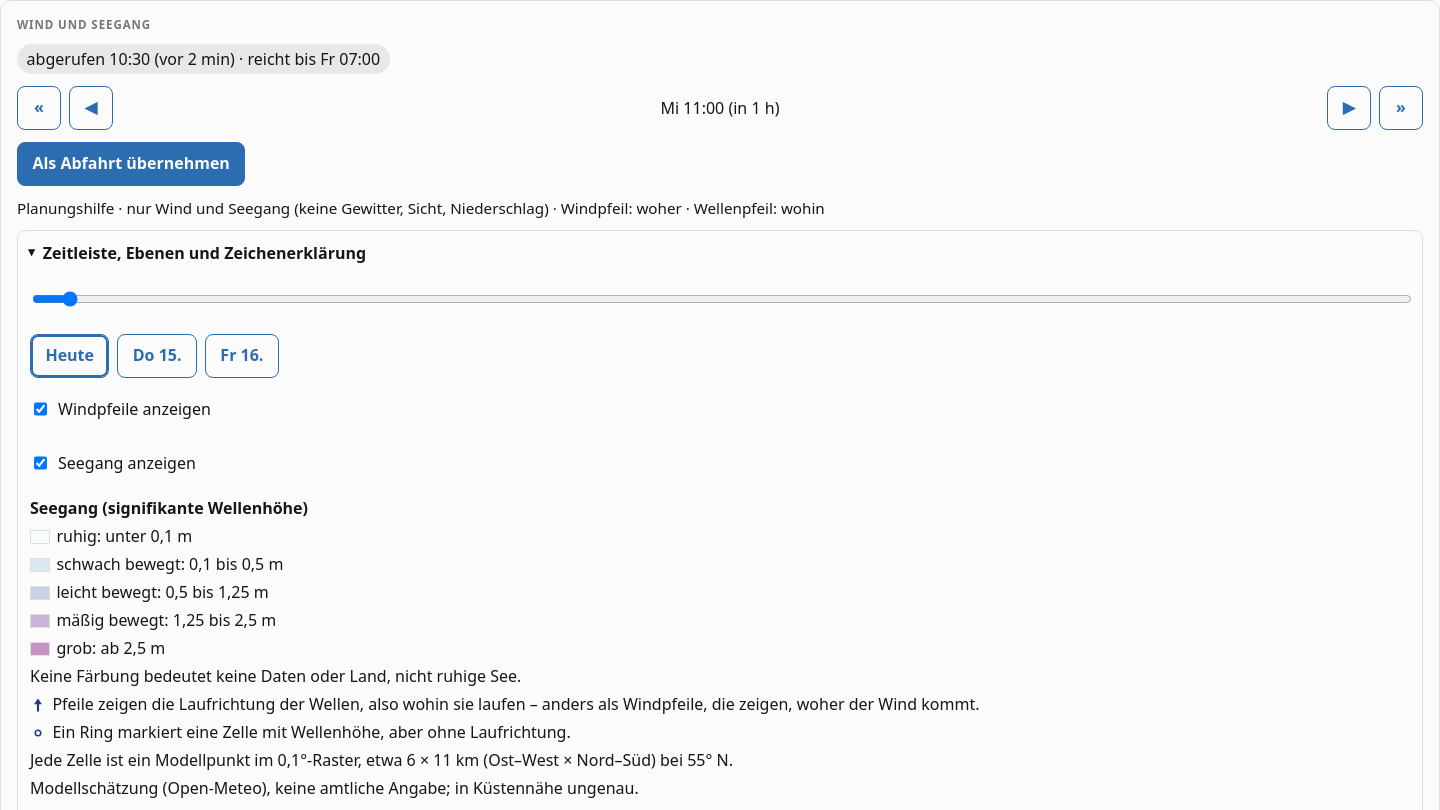
Test: ConditionsPanel hour control and handoff (#1854 §4, §11) › a 13 h clock advance turns stale, drops past hours and announces only the transition
Click the button named "Eine Stunde später" at (1349, 108), box top-left (1327, 86), bottom-right (1371, 130)
Wait 10000000 ms
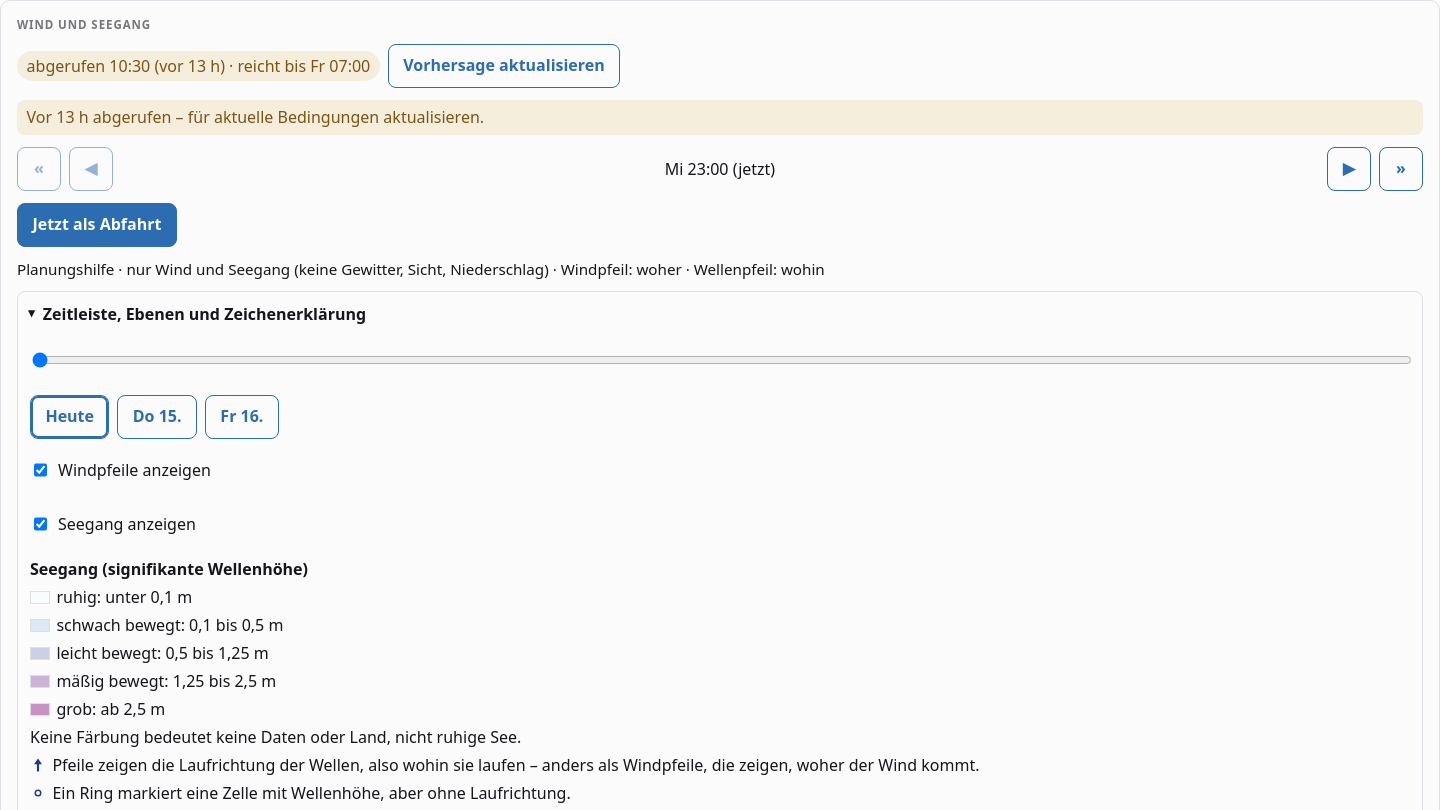
Expected: the text with class "conditions-hour-value" shows "(jetzt)", top-left (738, 158), bottom-right (770, 180)
Expected: the button named "Eine Stunde früher" is disabled, top-left (69, 147), bottom-right (113, 191)
Expected: the text with class "conditions-status-stale" shows "vor 13 h", top-left (27, 55), bottom-right (370, 77)
